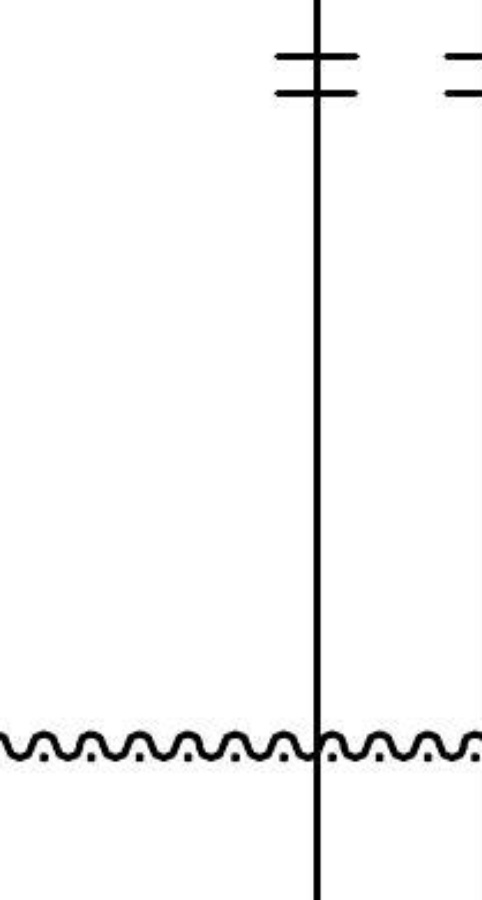115_buffer: (274, 53, 360, 97)
